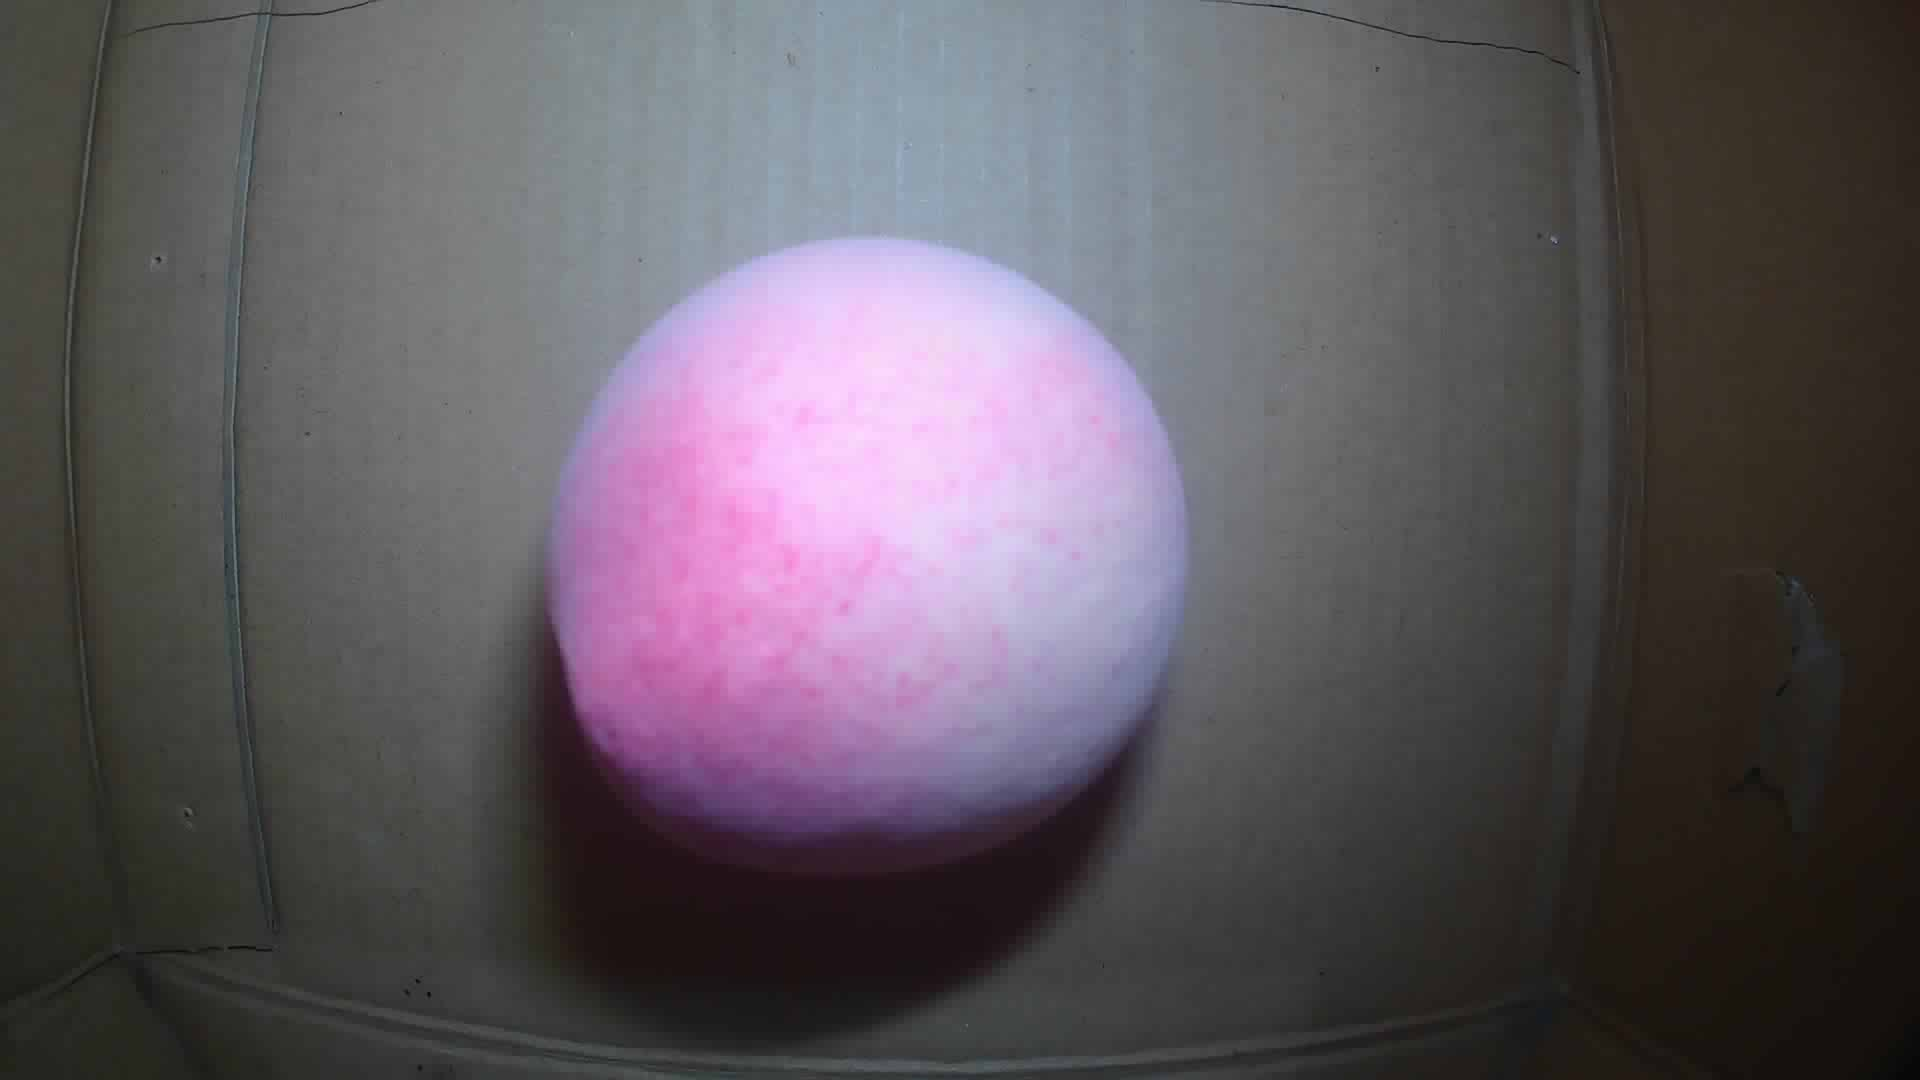peach: (543, 233, 1187, 872)
